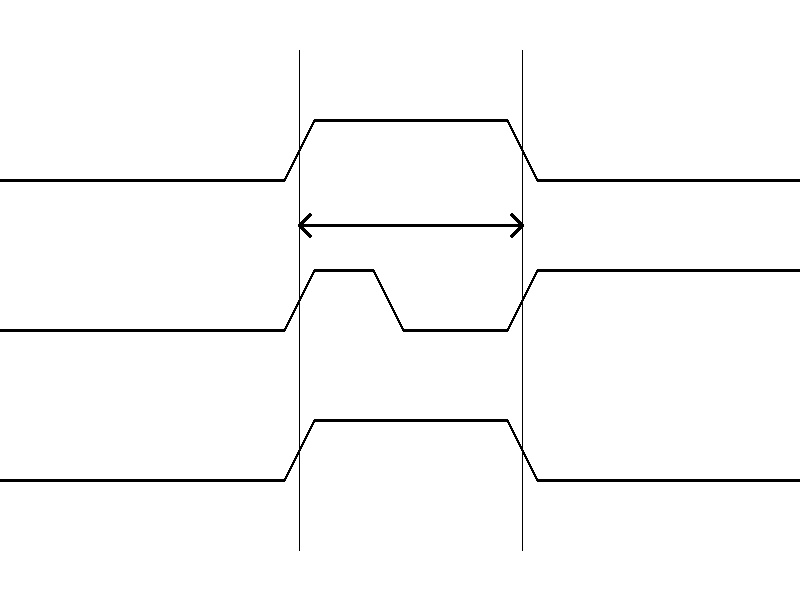double_arrow: (299, 210, 522, 240)
